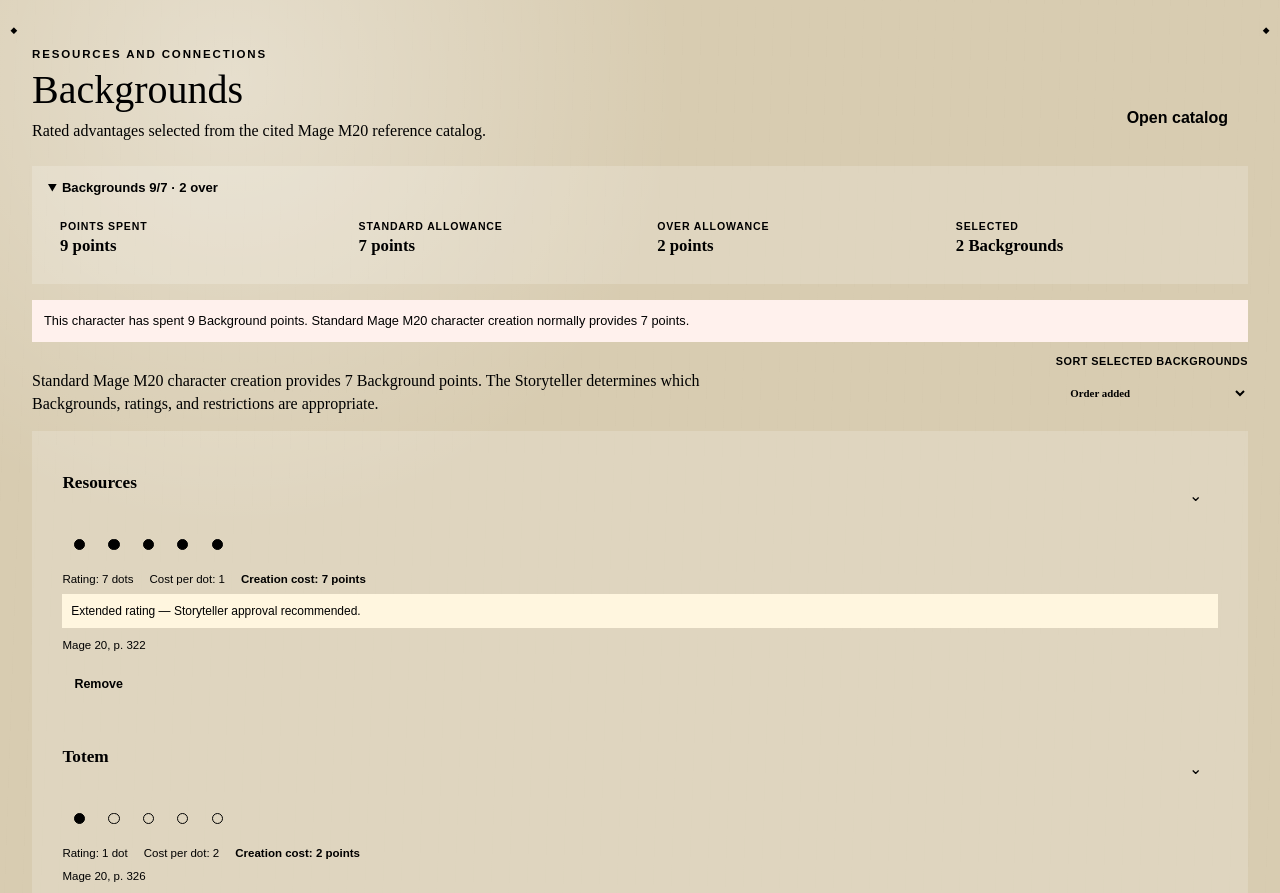
Test: Background editor › shows warning-only restrictions and over-allowance totals
This screenshot has width=1280, height=893.
Check: the heading "Backgrounds 9/7 · 2 over" is shown, box [62,180,218,195]
Check: the text "This character has spent 9 Background points. Standard Mage M20 character creation normally provides 7 points." is shown, box [32,300,1248,342]
Step 1. Click the button named "Expand selected Totem" → {"x": 1196, "y": 769}, box [1174,747,1218,791]
(page scrolled)
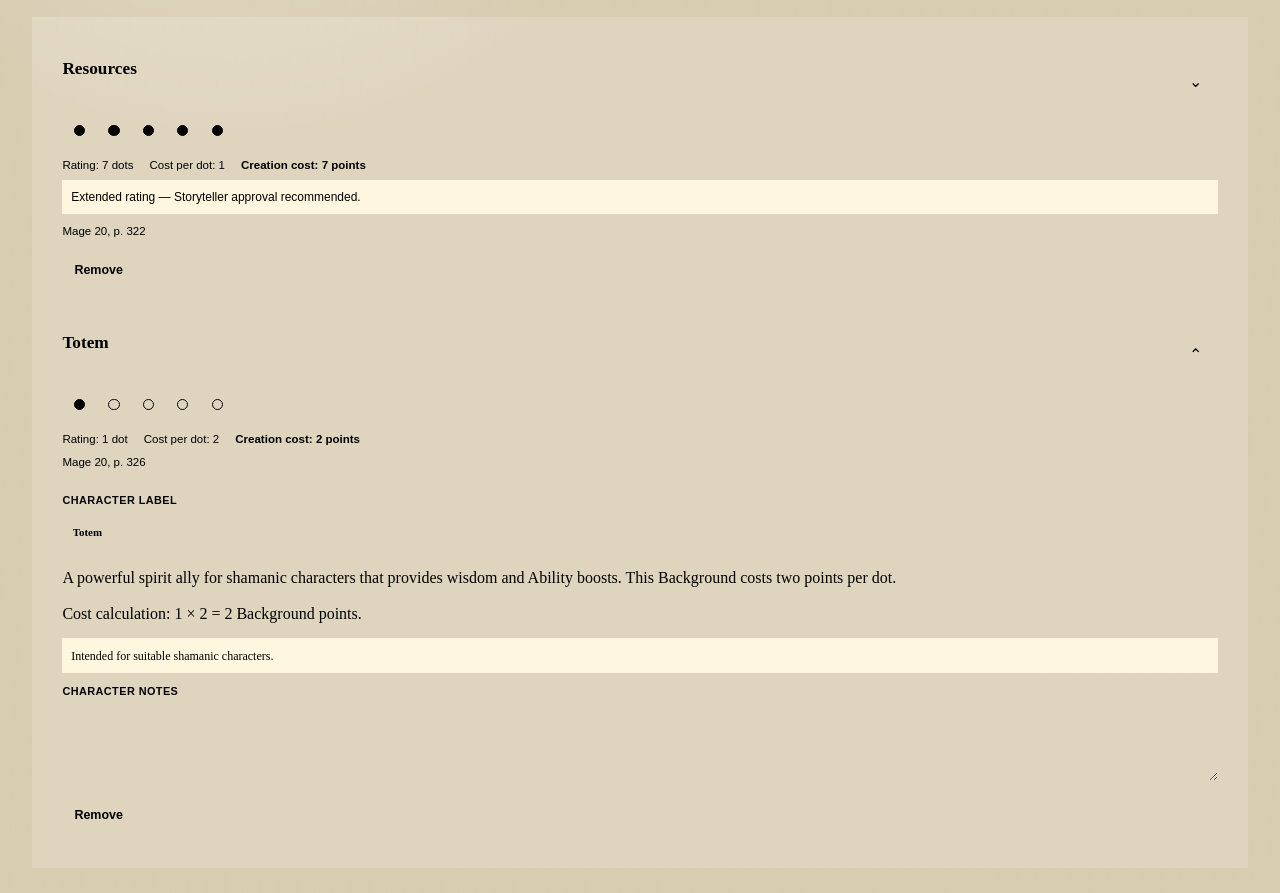
Check: the text "Intended for suitable shamanic characters." is shown, box [62,638,1218,673]
